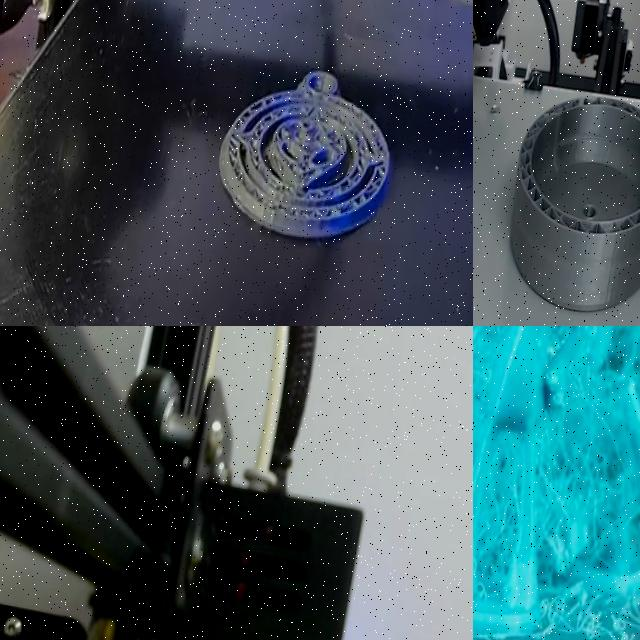spaghetti: (539, 326, 640, 575)
